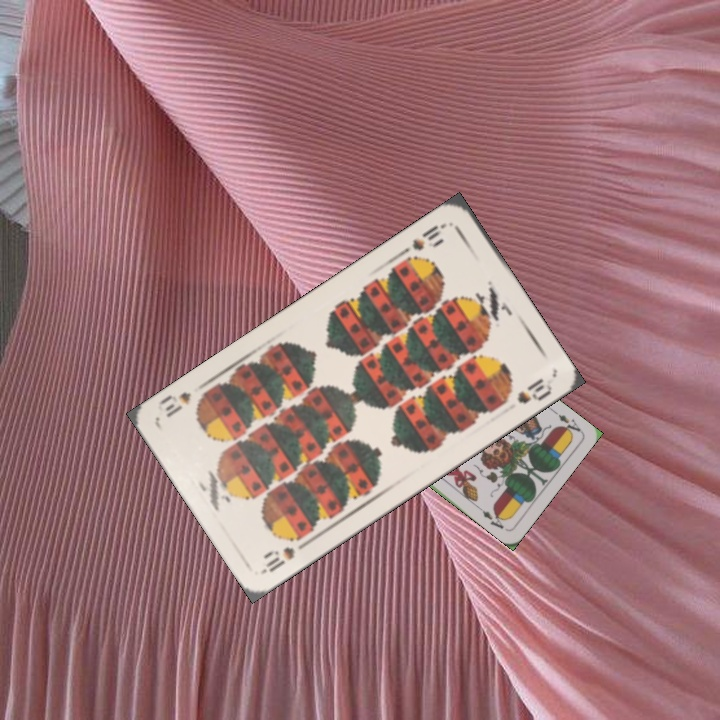EA: (549, 406, 584, 438)
S10: (260, 536, 313, 575), (407, 218, 450, 253)
